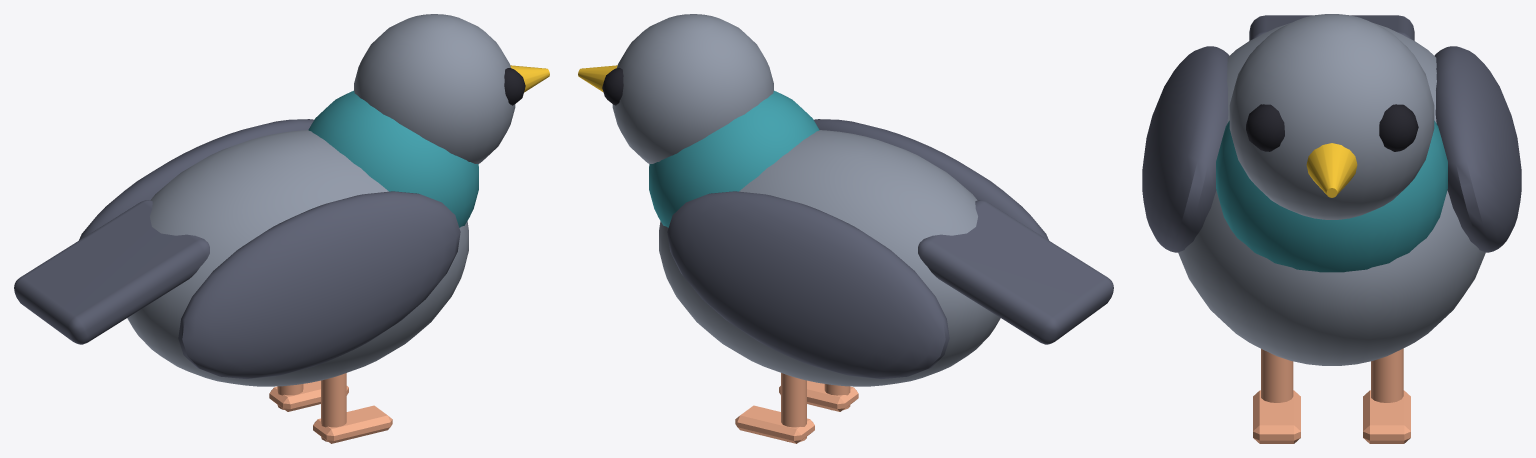
The model's file is pigeon.glb.
3 views of the same model, side by side, from view 1: azimuth 30°, elevation 25°; view 2: azimuth 150°, elevation 25°; view 3: azimuth 270°, elevation 25° (orthographic). The views are drawn at different scales.
Visible parts, largest first — view 1: pigeon; view 2: pigeon; view 3: pigeon.
Boxes of the visible parts, x1,y1,x2,y2 form: pigeon: [14, 14, 549, 443]; pigeon: [578, 14, 1113, 443]; pigeon: [1142, 14, 1521, 443].
Bounding box in the file's own units: 0.5369 × 0.375 × 0.2757.
Materials: 1 (1 with a texture image).
